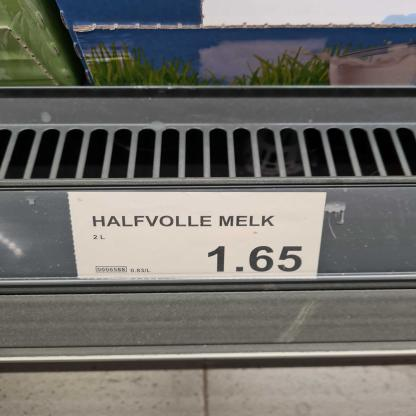prtg: (68, 193, 328, 281)
